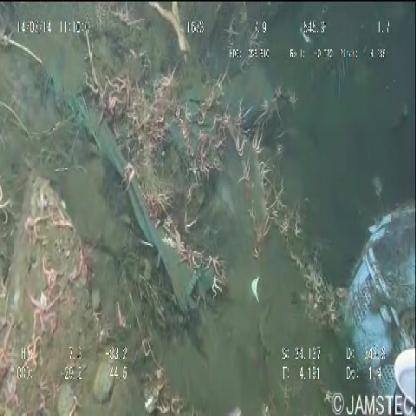Rov: (382, 350, 416, 408)
Rác: (341, 174, 416, 370)
